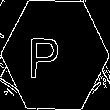P_N: (38, 29, 72, 81)
